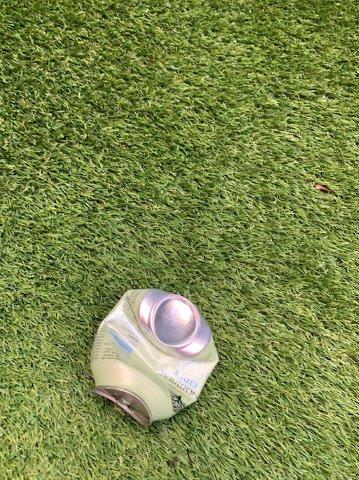kaleng: (92, 290, 219, 424)
